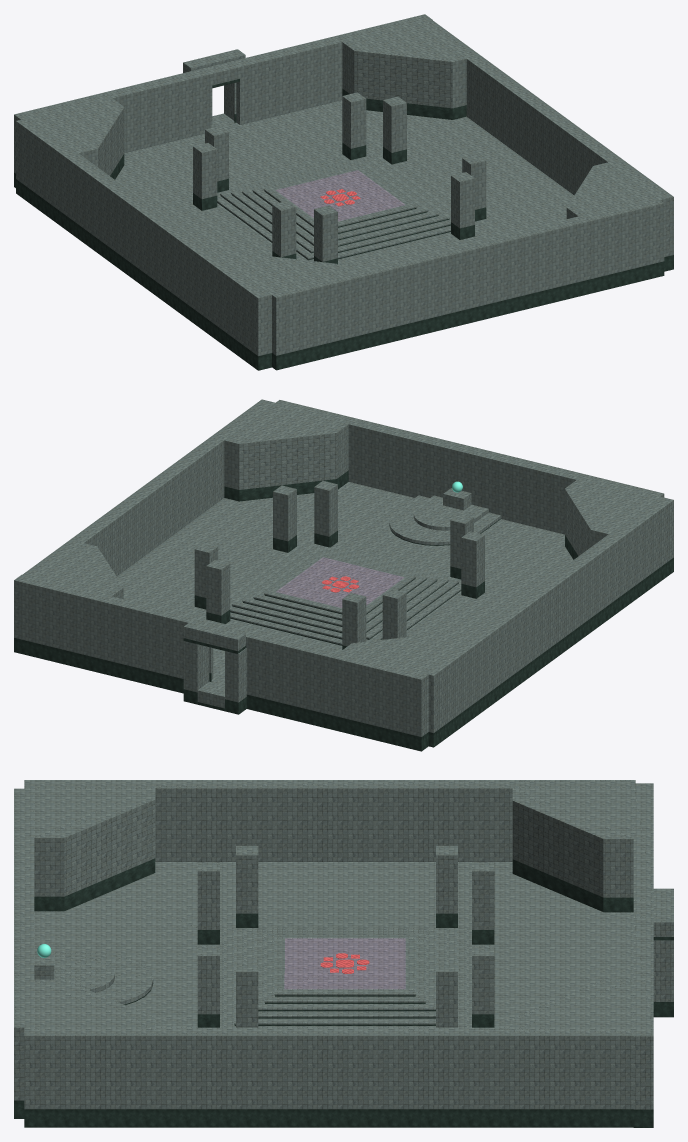
File: bossroom.glb
3 renders of one model, top to bottom at view 1: azimuth 30°, elevation 25°; view 2: azimuth 150°, elevation 25°; view 3: azimuth 270°, elevation 25°, orthographic. The views are drawn at different scales.
Parts seen in each view (by area): view 1: block (×9), block_corner_large (×4), columns_large (×4), stairs (×4), stairs_corner (×4); view 2: block (×11), block_corner_large (×4), columns_large (×4), stairs (×4), block_round (×2), stairs_corner (×3); view 3: block (×10), block_corner_large (×4), columns_large (×4), stairs (×4), stairs_corner (×4), block_round (×2), floor_detail.
Boxes of the visible parts, x1,y1,x2,y2 form: block (×9): [14, 14, 673, 370]; block_corner_large (×4): [29, 22, 661, 292]; columns_large (×4): [193, 92, 486, 264]; stairs (×4): [233, 164, 447, 257]; stairs_corner (×4): [217, 154, 450, 260]; block (×11): [14, 399, 673, 751]; block_corner_large (×4): [30, 404, 658, 671]; columns_large (×4): [194, 481, 484, 649]; stairs (×4): [234, 551, 446, 643]; block_round (×2): [389, 495, 501, 545]; stairs_corner (×3): [230, 541, 461, 623]; block (×10): [14, 780, 673, 1127]; block_corner_large (×4): [34, 787, 633, 1031]; columns_large (×4): [197, 845, 494, 1027]; stairs (×4): [224, 928, 466, 1027]; stairs_corner (×4): [224, 928, 466, 1027]; block_round (×2): [54, 953, 153, 1005]; floor_detail: [320, 953, 369, 973].
Size of the model in its own units: 30.04 by 5.2 by 32.7.
66 materials, 65 textured.
